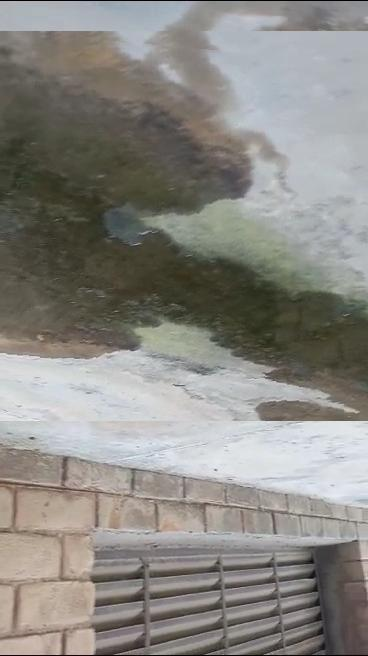water accumulation: (0, 0, 368, 421)
